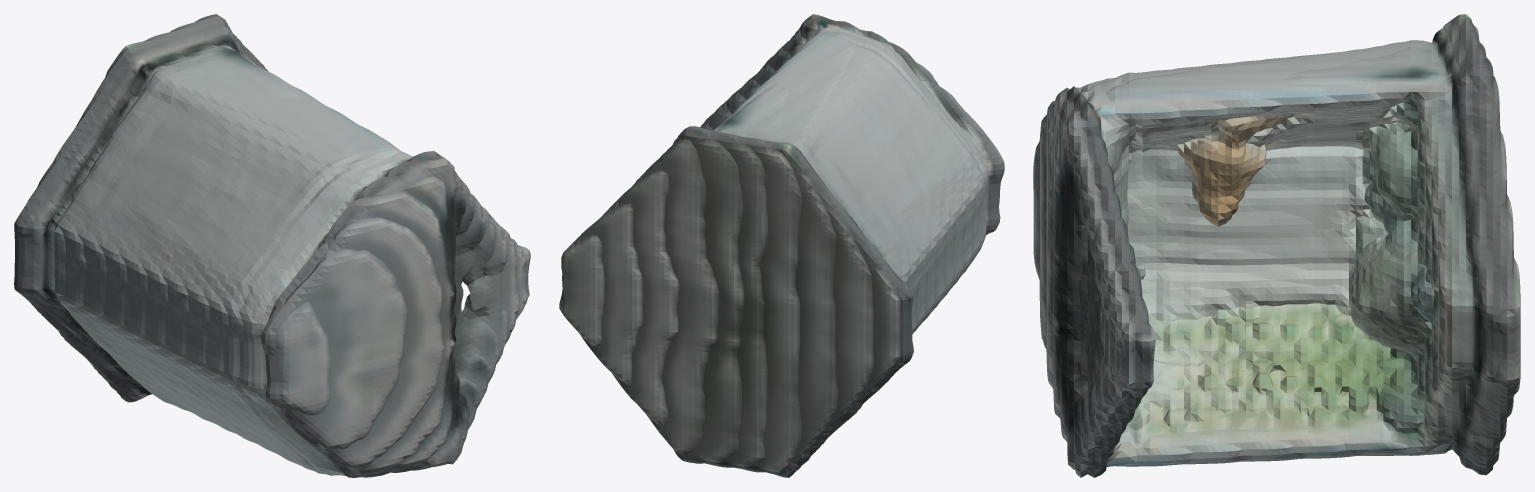
The picture shows the model from 3 angles, left to right: view 1: azimuth 30°, elevation 25°; view 2: azimuth 150°, elevation 25°; view 3: azimuth 270°, elevation 25°; orthographic projection. The views are drawn at different scales.
Visible parts, largest first — view 1: world; view 2: world; view 3: world.
Boxes of the visible parts, left/top/right/bottom form: world: left=14, top=14, right=530, bottom=477; world: left=559, top=14, right=1004, bottom=477; world: left=1033, top=14, right=1520, bottom=477.
Size of the model in its own units: 0.9844 by 0.8897 by 0.9713.
